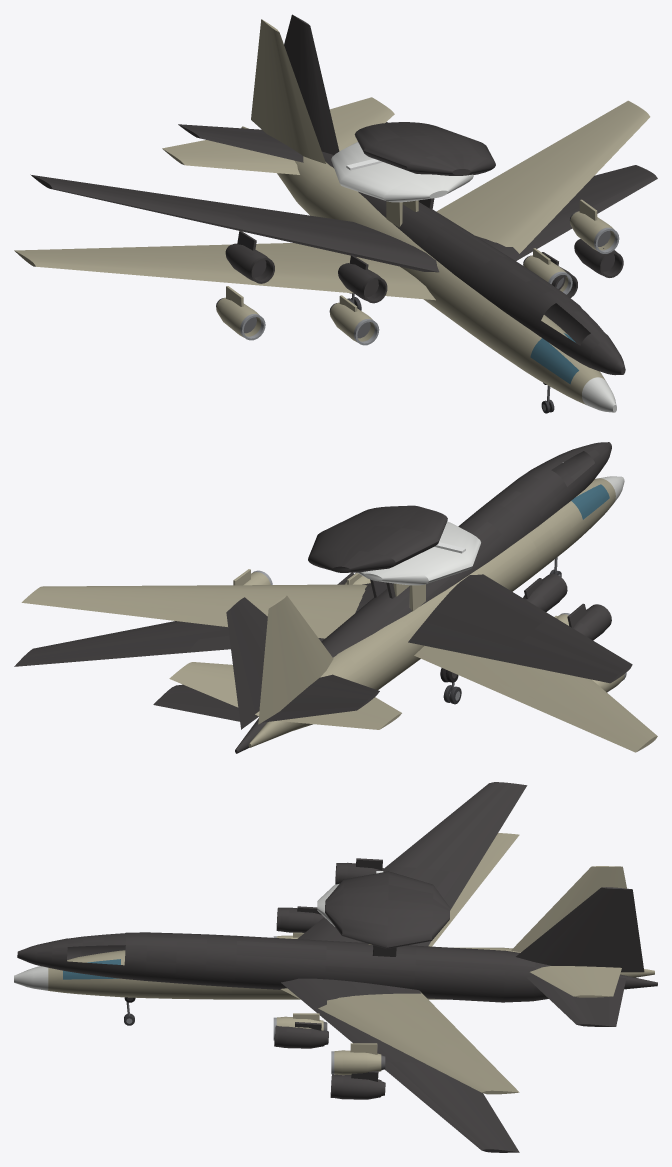
File: aewc__e_3f_sentry.glb
3 renders of one model, top to bottom at view 1: azimuth 30°, elevation 25°; view 2: azimuth 150°, elevation 25°; view 3: azimuth 270°, elevation 25°, orthographic. The views are drawn at different scales.
Parts seen in each view (by area): view 1: Fuselage_Mesh, Wreck, Radar_Mesh; view 2: Wreck, Fuselage_Mesh, Radar_Mesh; view 3: Wreck, Fuselage_Mesh.
Part boxes in pixels (x1,y1,x2,y2): Fuselage_Mesh: [14, 19, 650, 413]; Wreck: [30, 14, 657, 384]; Radar_Mesh: [331, 142, 473, 202]; Wreck: [14, 442, 632, 753]; Fuselage_Mesh: [21, 476, 657, 752]; Radar_Mesh: [357, 521, 480, 585]; Wreck: [17, 782, 657, 1152]; Fuselage_Mesh: [14, 833, 654, 1094].
Size of what is drawn, in the model's own units: 45.01 by 12.7 by 46.89.
